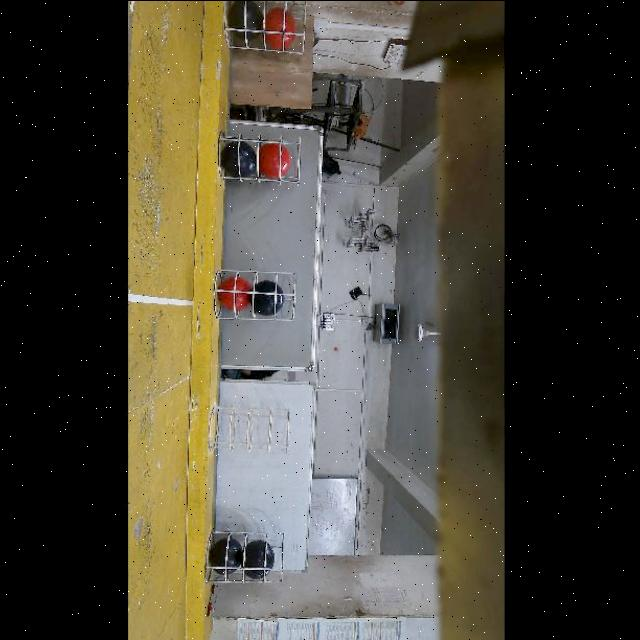P: (229, 0, 266, 41), (209, 536, 244, 577), (221, 140, 257, 175), (243, 538, 275, 577), (252, 279, 286, 315)
R: (265, 11, 298, 46), (256, 143, 292, 175), (219, 275, 252, 309)
S: (214, 266, 300, 326), (230, 0, 312, 60), (207, 525, 291, 581), (227, 130, 305, 190), (212, 403, 292, 457)
